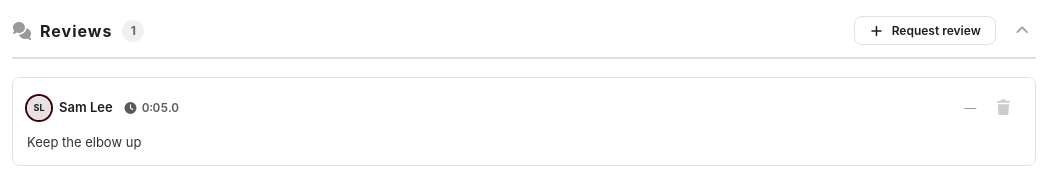
reviews section › puts the collapse caret at the end of the row, after the action
Click the button named "Toggle Reviews". click: (1022, 30)
box: [1008,20,1036,41]
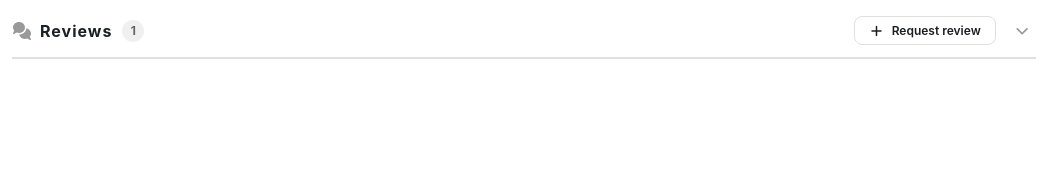
Result: the list is gone
